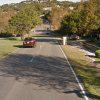Car: (18, 34, 37, 57)
